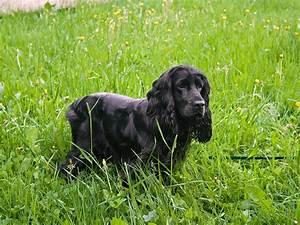dog: (57, 63, 212, 191)
